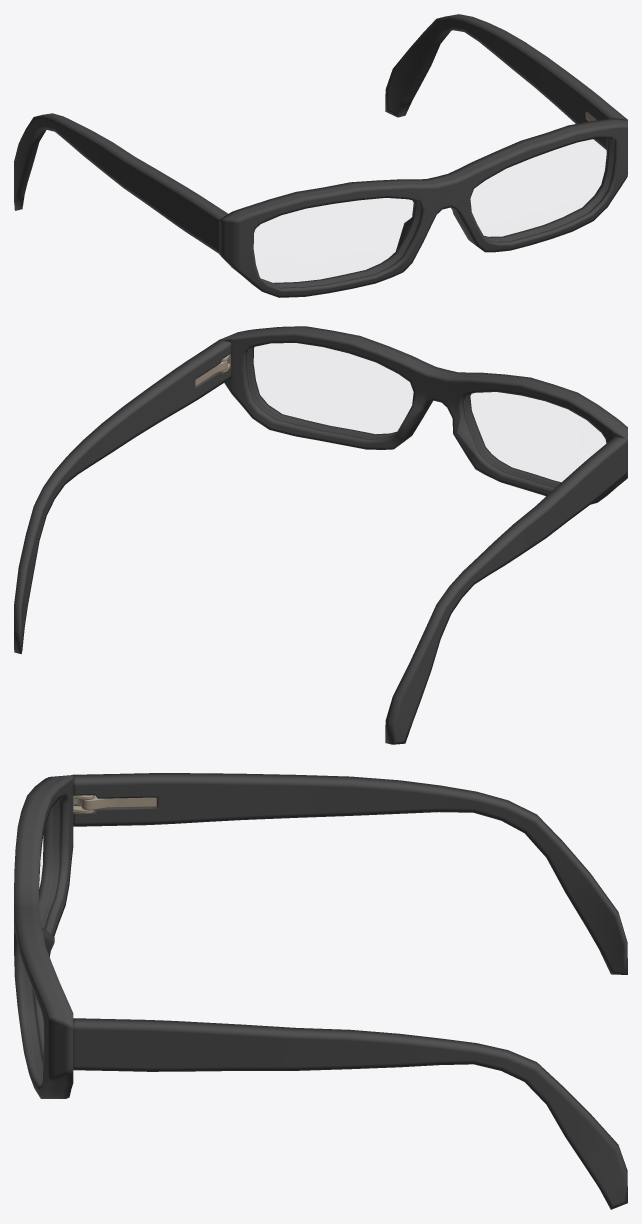
File: glasses-vv-1.glb
3 renders of one model, top to bottom at view 1: azimuth 30°, elevation 25°; view 2: azimuth 150°, elevation 25°; view 3: azimuth 270°, elevation 25°, orthographic. The views are drawn at different scales.
Parts seen in each view (by area): view 1: GLASSES_1; view 2: GLASSES_1; view 3: GLASSES_1.
Boxes of the visible parts, left/top/right/bottom form: GLASSES_1: left=14, top=14, right=627, bottom=297; GLASSES_1: left=14, top=326, right=627, bottom=744; GLASSES_1: left=14, top=773, right=627, bottom=1209.
Size of the model in its own units: 0.1487 by 0.0561 by 0.1482.
